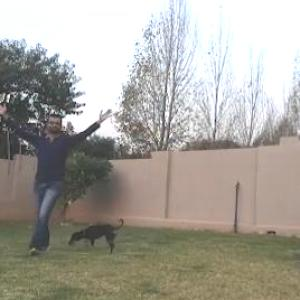takeoff: (0, 107, 126, 256)
